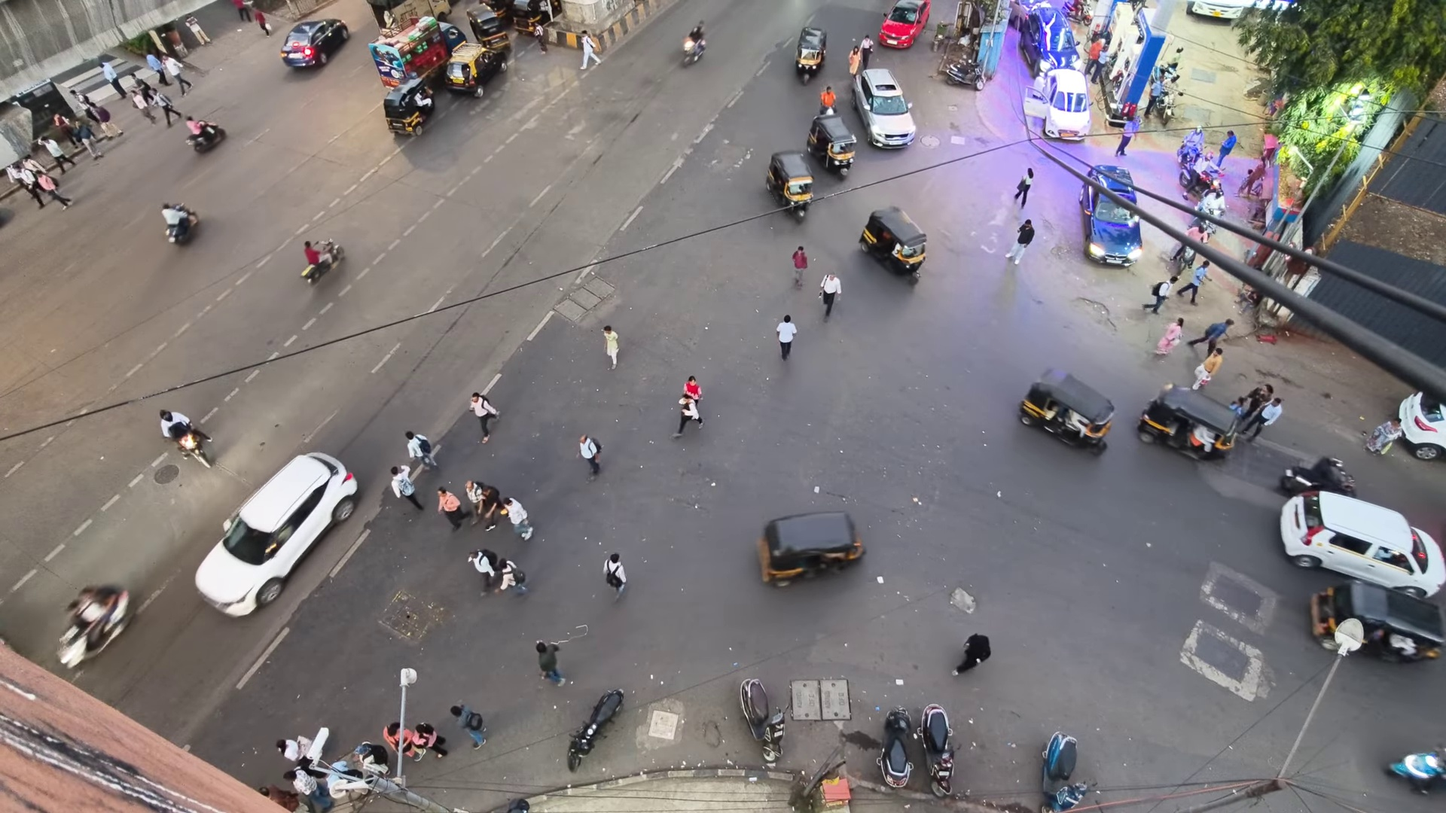walking: (283, 768, 333, 812), (1241, 397, 1283, 440), (7, 162, 44, 208), (449, 705, 486, 749), (1176, 260, 1210, 305), (1188, 319, 1234, 352), (953, 633, 990, 674), (391, 466, 424, 510), (470, 393, 499, 443), (468, 549, 500, 594), (1365, 417, 1402, 455), (37, 137, 75, 174), (672, 395, 703, 438), (535, 641, 565, 685), (1142, 276, 1177, 313), (37, 172, 72, 209), (413, 722, 447, 760), (1191, 348, 1222, 389), (502, 498, 532, 540), (1006, 219, 1034, 264), (352, 741, 389, 775), (438, 487, 466, 531), (162, 55, 191, 96), (404, 431, 437, 467), (496, 560, 528, 595), (152, 91, 184, 126), (259, 785, 300, 812), (1155, 317, 1184, 355), (90, 105, 123, 138), (383, 722, 414, 757), (464, 480, 487, 524), (579, 434, 601, 480), (276, 735, 312, 763), (1115, 117, 1140, 157), (75, 123, 102, 160), (819, 273, 840, 319), (605, 553, 626, 597), (131, 88, 156, 124), (53, 113, 80, 146), (776, 315, 796, 359), (1143, 76, 1164, 117), (1085, 35, 1103, 82), (1246, 384, 1273, 415), (101, 61, 124, 96), (579, 30, 599, 69), (145, 52, 169, 84), (1216, 130, 1236, 168), (1014, 168, 1033, 208), (602, 325, 619, 368), (184, 16, 210, 44), (133, 75, 157, 105), (792, 245, 807, 288), (859, 35, 873, 69), (684, 376, 702, 402), (819, 86, 835, 114), (1228, 396, 1247, 419), (232, 0, 252, 21), (1185, 225, 1209, 242), (533, 26, 547, 54), (848, 45, 861, 75), (255, 10, 270, 36)
